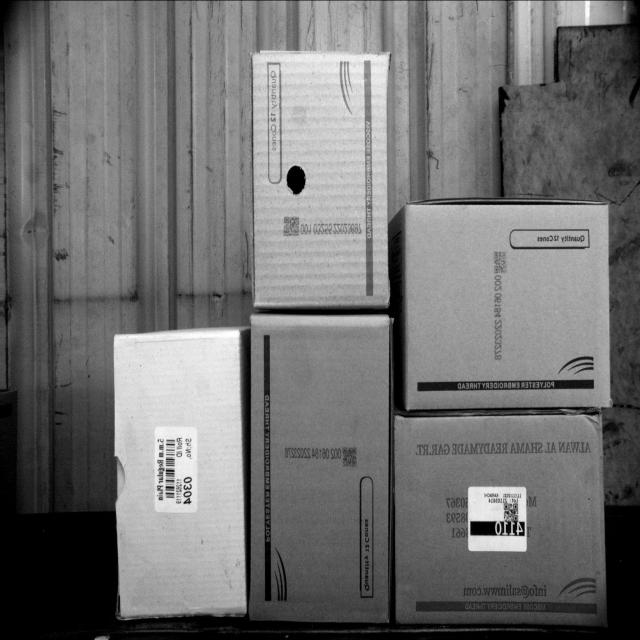cardboxes: (251, 312, 392, 632), (392, 416, 607, 622), (402, 200, 610, 411), (115, 331, 239, 613), (253, 54, 388, 308)
